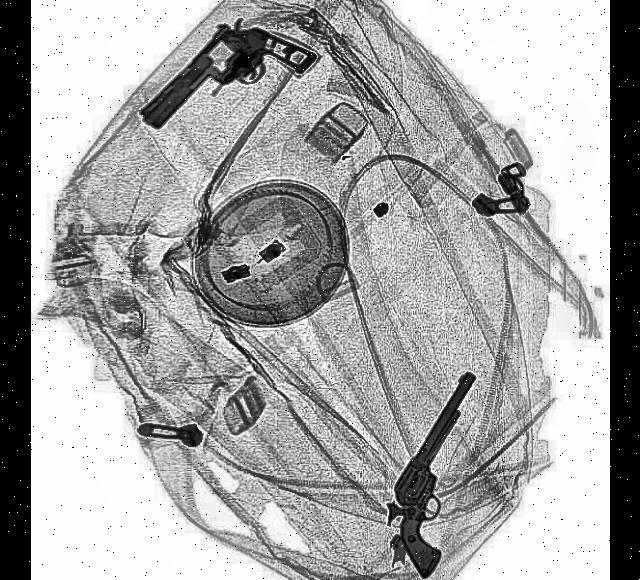Gun: (136, 0, 315, 189), (365, 369, 524, 580)
